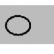no answer: (4, 14, 34, 36)
